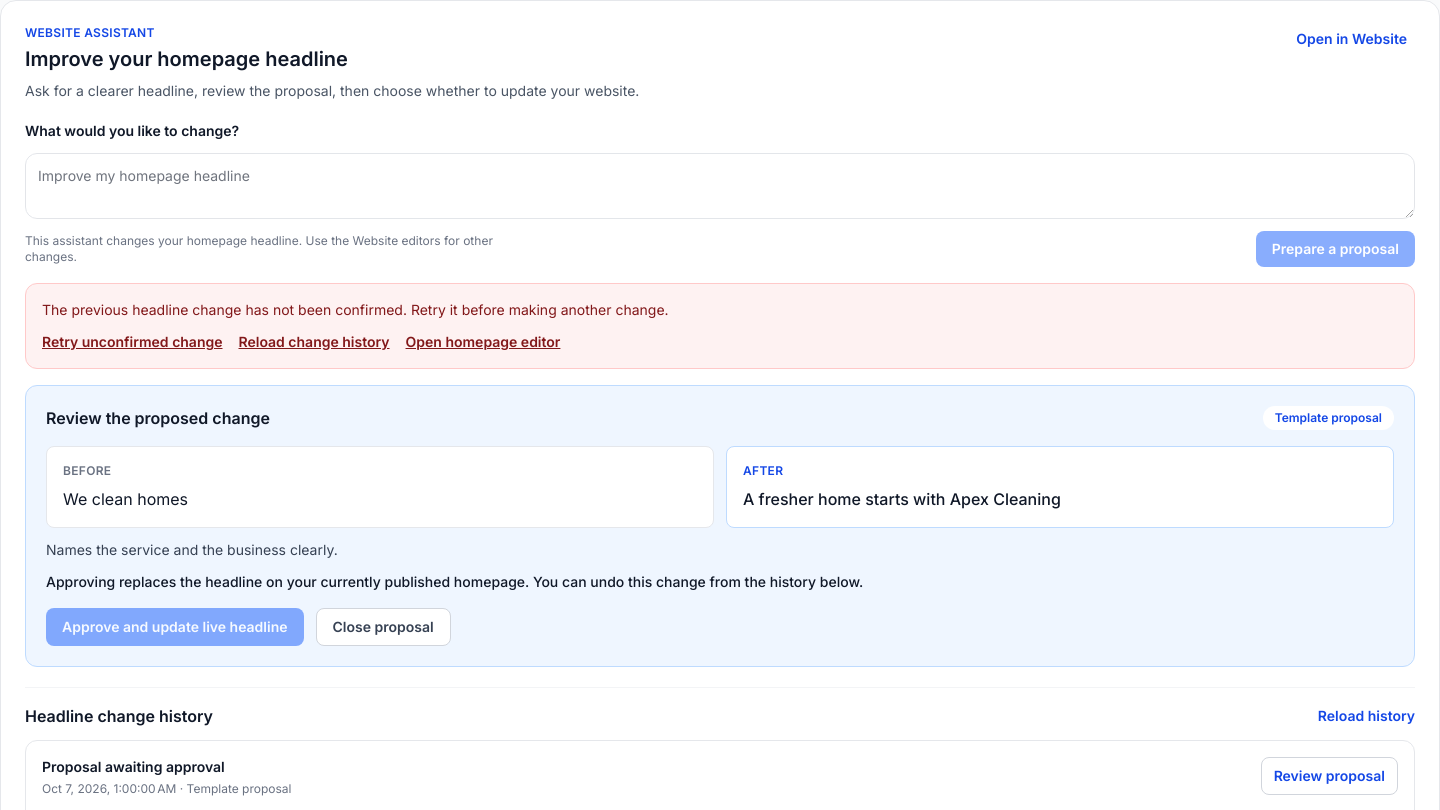
Test: Homepage headline conversation and review › does not claim the live headline is unchanged when an unconfirmed approval is closed
Click the button "Close proposal".
click(383, 627)  # box [316,608,451,646]
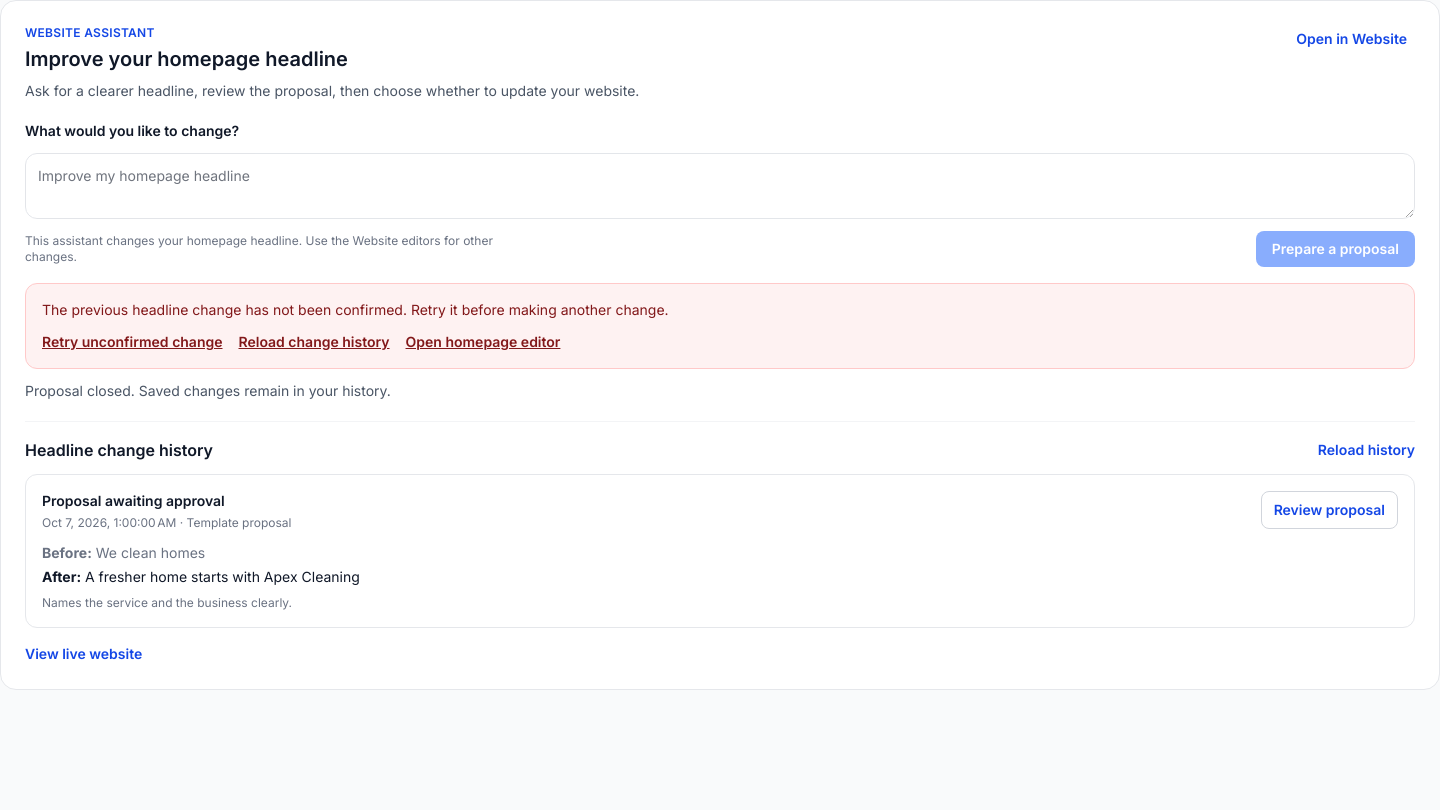
Now the message "Proposal closed. Saved changes remain in your history." is shown, box [25,382,391,399]
